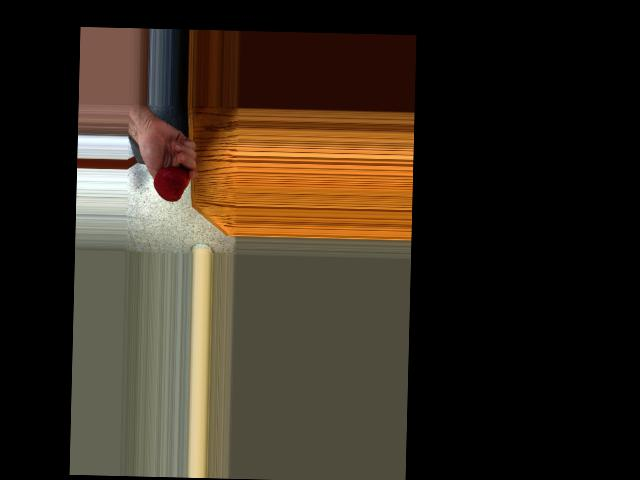apple: (153, 165, 189, 204)
